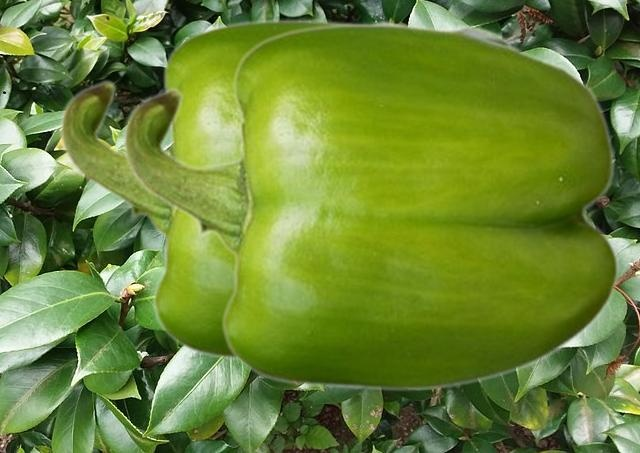bell_pepper: (122, 22, 619, 391), (59, 18, 403, 362)
